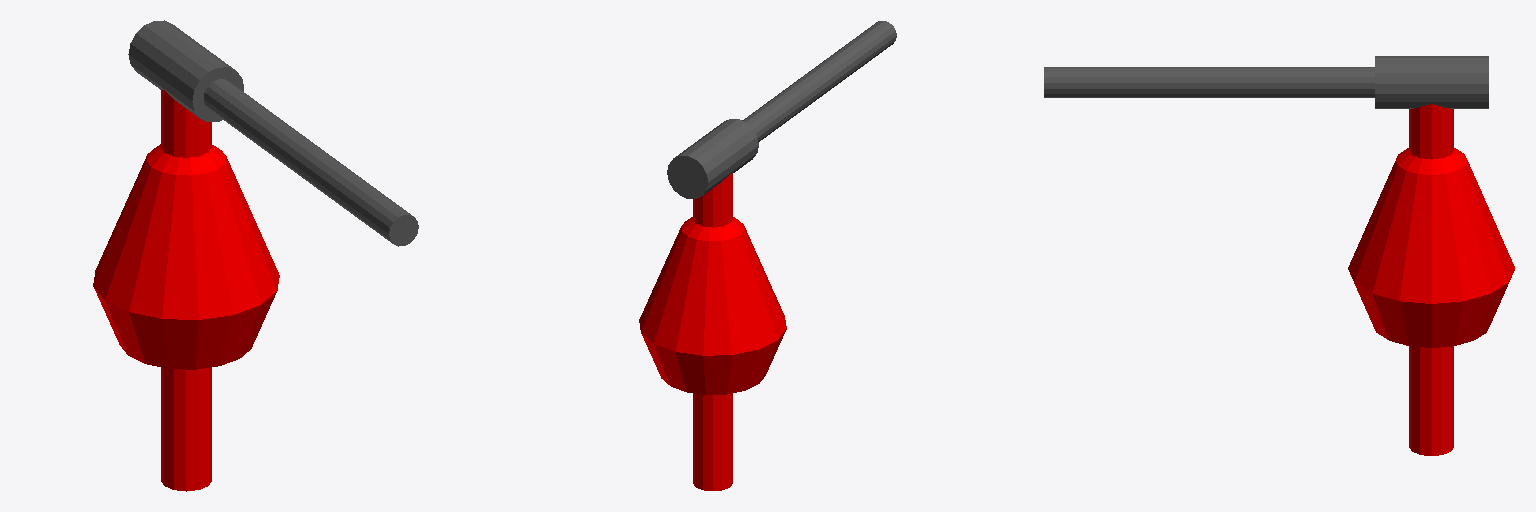
URDF robot description (drcbox-valve-bar-0-robot):
<?xml version="1.0"?>
<robot name="drcbox-valve-bar-0-robot"
       xmlns:xi="http://www.w3.org/2001/XInclude"
       xmlns:gazebo="http://playerstage.sourceforge.net/gazebo/xmlschema/#gz"
       xmlns:model="http://playerstage.sourceforge.net/gazebo/xmlschema/#model"
       xmlns:sensor="http://playerstage.sourceforge.net/gazebo/xmlschema/#sensor"
       xmlns:body="http://playerstage.sourceforge.net/gazebo/xmlschema/#body"
       xmlns:geom="http://playerstage.sourceforge.net/gazebo/xmlschema/#geom"
       xmlns:joint="http://playerstage.sourceforge.net/gazebo/xmlschema/#joint"
       xmlns:interface="http://playerstage.sourceforge.net/gazebo/xmlschema/#interface"
       xmlns:rendering="http://playerstage.sourceforge.net/gazebo/xmlschema/#rendering"
       xmlns:renderable="http://playerstage.sourceforge.net/gazebo/xmlschema/#renderable"
       xmlns:controller="http://playerstage.sourceforge.net/gazebo/xmlschema/#controller"
       xmlns:physics="http://playerstage.sourceforge.net/gazebo/xmlschema/#physics">
  <gazebo>
    <static>false</static>
  </gazebo>
  <link name="CRANK-ROOT-LINK_link">
    <visual>
      <origin xyz="0 0 0" rpy="0 -0 0"/>
      <geometry>
        <mesh filename="model://drcbox-valve-bar-0/meshes/CRANK-ROOT-LINK_link_mesh.dae" scale="1 1 1" />
      </geometry>
    </visual>
    <collision>
      <origin xyz="0 0 0" rpy="0 -0 0"/>
      <geometry>
        <mesh filename="model://drcbox-valve-bar-0/meshes/CRANK-ROOT-LINK_link_mesh.dae" scale="1 1 1" />
      </geometry>
    </collision>
    <inertial>
      <mass value="0.001" />
      <origin xyz="0 0 0" rpy="0 -0 0"/>
      <inertia ixx="1e-03" ixy="0" ixz="0" iyy="1e-03" iyz="0" izz="1e-03"/>
    </inertial>
  </link>
  <gazebo reference="CRANK-ROOT-LINK_link">
    <mu1>0.9</mu1>
    <mu2>0.9</mu2>
  </gazebo>
  <link name="VALVE-HANDLE-LINK_link">
    <visual>
      <origin xyz="1.13687e-16 0 0.353" rpy="0 -0 0"/>
      <geometry>
        <mesh filename="model://drcbox-valve-bar-0/meshes/VALVE-HANDLE-LINK_link_mesh.dae" scale="1 1 1" />
      </geometry>
    </visual>
    <collision>
      <origin xyz="1.13687e-16 0 0.353" rpy="0 -0 0"/>
      <geometry>
        <mesh filename="model://drcbox-valve-bar-0/meshes/VALVE-HANDLE-LINK_link_mesh.dae" scale="1 1 1" />
      </geometry>
    </collision>
    <inertial>
      <mass value="0.001" />
      <origin xyz="0 0 0" rpy="0 -0 0"/>
      <inertia ixx="1e-03" ixy="0" ixz="0" iyy="1e-03" iyz="0" izz="1e-03"/>
    </inertial>
  </link>
  <gazebo reference="VALVE-HANDLE-LINK_link">
    <mu1>0.9</mu1>
    <mu2>0.9</mu2>
  </gazebo>
  <joint name="CRANK-JOINT" type="revolute">
    <parent link="CRANK-ROOT-LINK_link"/>
    <child  link="VALVE-HANDLE-LINK_link"/>
    <origin xyz="1.13687e-16 0 0.353" rpy="0 -0 0 "/>
    <axis   xyz="0 0 1"/>
    <limit lower="-62.8319" upper="62.8319" effort="100" velocity="0.5" />
    <dynamics damping="0.2" friction="0" />
  </joint>
  <transmission type="pr2_mechanism_model/SimpleTransmission" name="CRANK-JOINT_trans" >
    <actuator name="CRANK-JOINT_motor" />
    <joint name="CRANK-JOINT" />
    <mechanicalReduction>1</mechanicalReduction>
  </transmission>
  <gazebo reference="CRANK-JOINT">
    <cfmDamping>0.4</cfmDamping>
  </gazebo>
</robot>

--- Facts derived from the render (not from the file) ---
Views: 3 orthographic renders of the robot side by side, from view 1: azimuth 30°, elevation 25°; view 2: azimuth 150°, elevation 25°; view 3: azimuth 270°, elevation 25°.
Robot: drcbox-valve-bar-0-robot — 2 links, 1 joints (1 revolute); root link CRANK-ROOT-LINK_link; default pose: every joint at zero.
Links seen in each view (by area): view 1: CRANK-ROOT-LINK_link, VALVE-HANDLE-LINK_link; view 2: CRANK-ROOT-LINK_link, VALVE-HANDLE-LINK_link; view 3: CRANK-ROOT-LINK_link, VALVE-HANDLE-LINK_link.
Link boxes in pixels (left/top/right/bottom): CRANK-ROOT-LINK_link: left=93, top=90, right=279, bottom=491; VALVE-HANDLE-LINK_link: left=128, top=20, right=418, bottom=246; CRANK-ROOT-LINK_link: left=639, top=173, right=786, bottom=490; VALVE-HANDLE-LINK_link: left=667, top=21, right=896, bottom=198; CRANK-ROOT-LINK_link: left=1348, top=104, right=1514, bottom=455; VALVE-HANDLE-LINK_link: left=1044, top=56, right=1488, bottom=108.
Size in the robot's own frame: 0.1473 by 0.4136 by 0.3765 metres.
2 mesh visuals loaded from 2 distinct referenced files (2 Collada DAE).